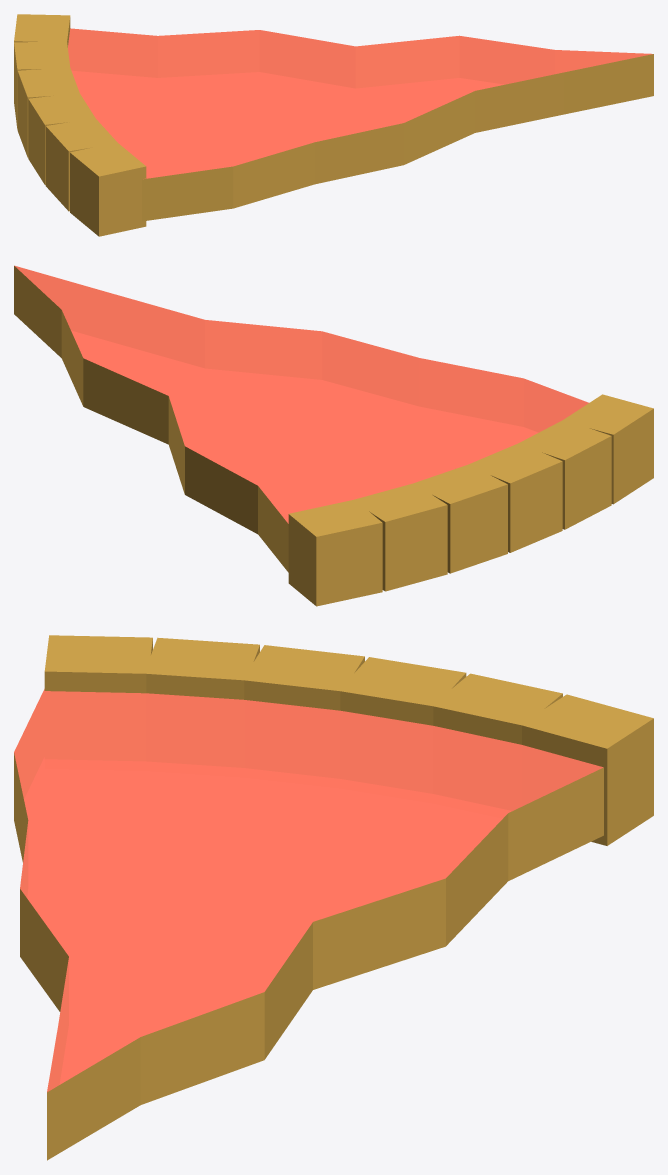
Rendered from prop_compass_piece_05_v01.glb.
The picture shows the model from 3 angles, top to bottom: view 1: azimuth 30°, elevation 25°; view 2: azimuth 150°, elevation 25°; view 3: azimuth 270°, elevation 25°; orthographic projection. The views are drawn at different scales.
Parts seen in each view (by area): view 1: piece_05; view 2: piece_05; view 3: piece_05.
Part boxes in pixels (x1,y1,x2,y2): piece_05: (14,14,653,236); piece_05: (14,265,653,606); piece_05: (14,635,653,1160).
Bounding box in the file's own units: 0.482 × 0.05 × 0.2978.
